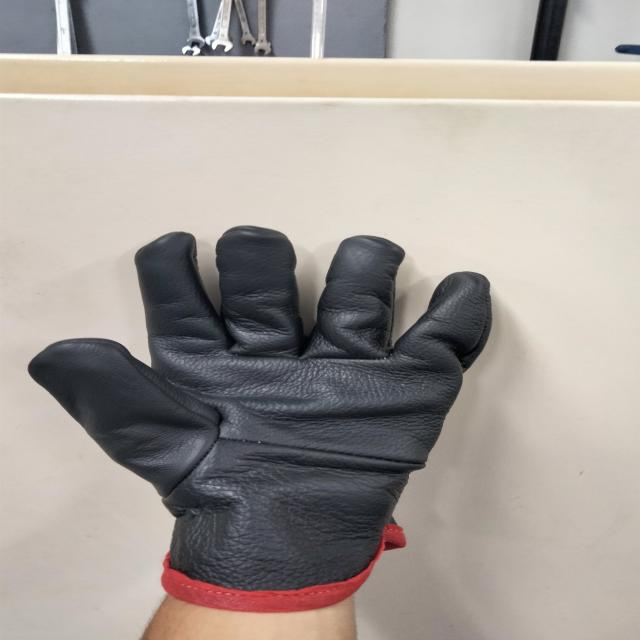Gloves: (28, 220, 504, 597)
